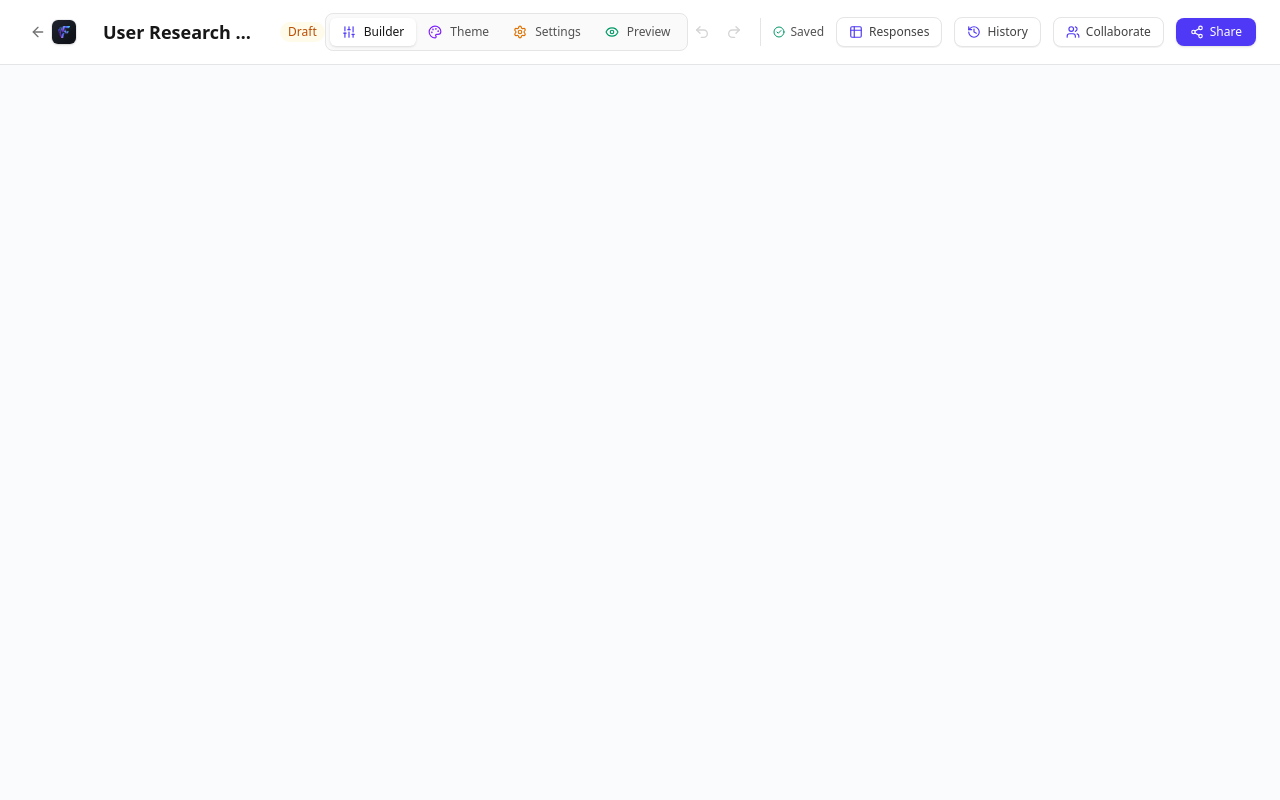
Scenario: Field Comments & Version History Feature › BuilderHeader History button integration › renders History button and opens VersionHistoryModal on click
Click the button "History".
click(998, 32)  # box [954,17,1041,47]
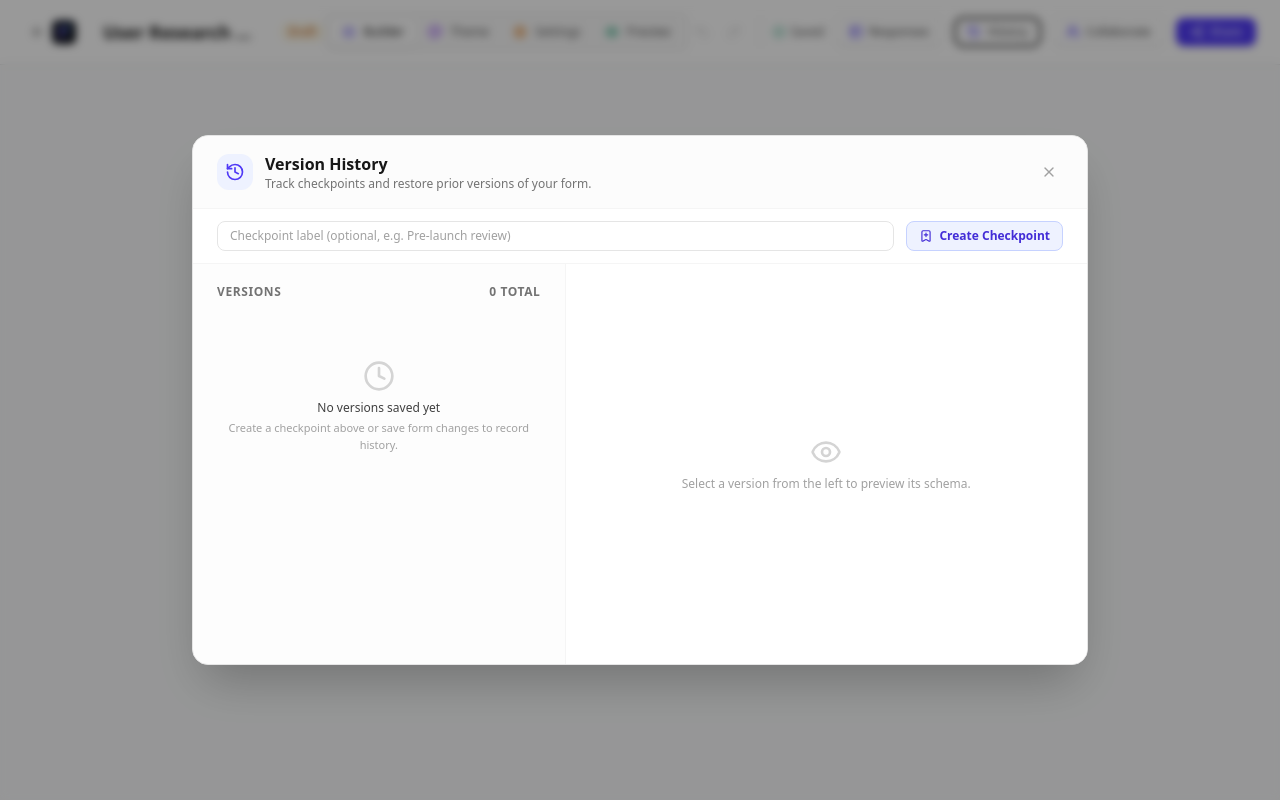
Check: the heading "Version History" is shown, box [265,153,388,175]
Check: the field with placeholder "Checkpoint label (optional, e.g. Pre-launch review)" is shown, box [217,221,894,251]
